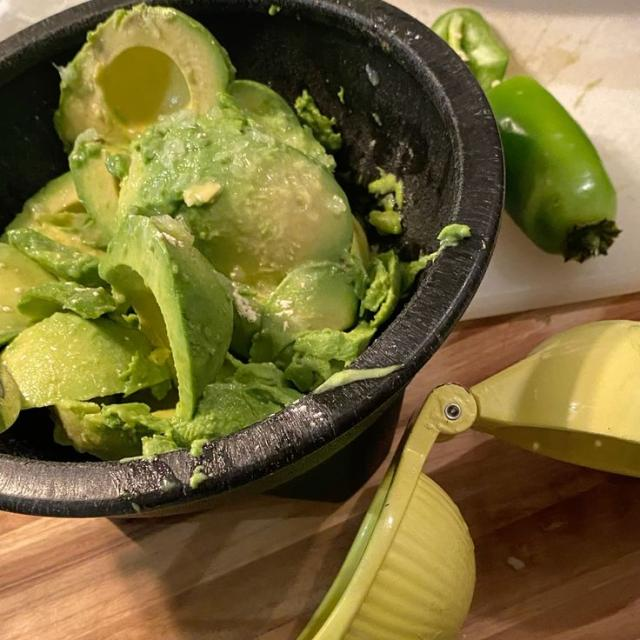avocado: (120, 105, 353, 295), (100, 216, 233, 419), (55, 4, 234, 146), (2, 314, 171, 408), (251, 262, 359, 361), (229, 80, 335, 171), (172, 376, 300, 446), (6, 173, 107, 255), (54, 401, 168, 459), (285, 322, 375, 391), (69, 129, 123, 238), (7, 228, 105, 286), (0, 243, 55, 346), (18, 282, 118, 320), (360, 251, 401, 327), (294, 90, 342, 152), (0, 362, 21, 433), (351, 216, 370, 266)
